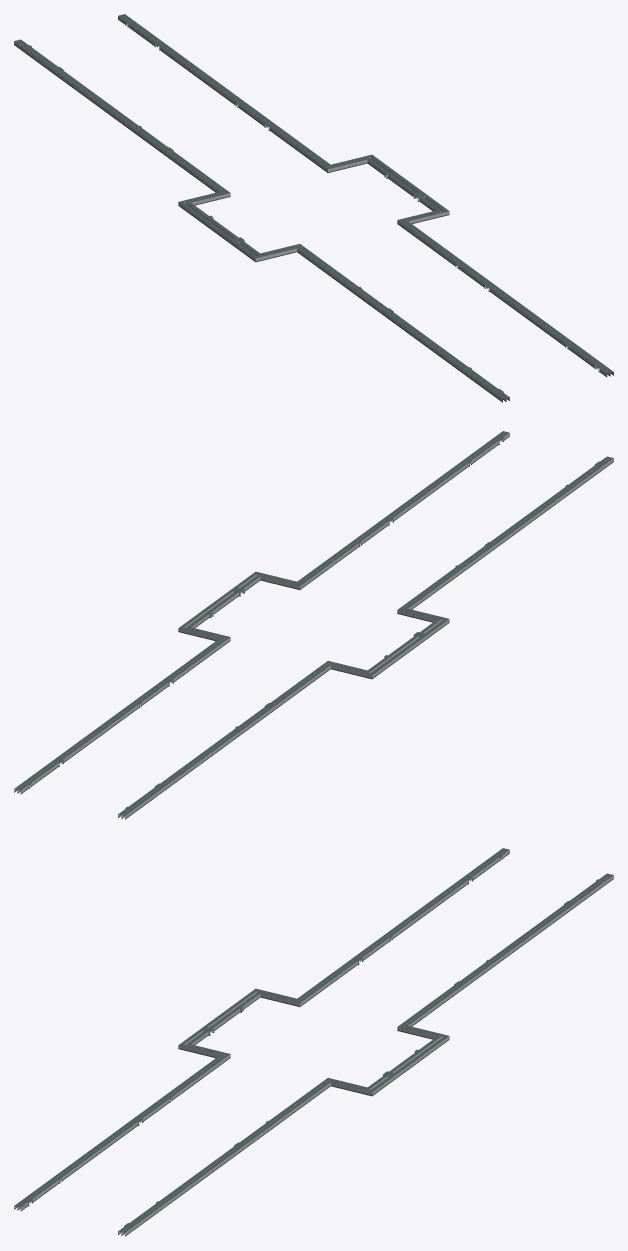
File: AST-MED-G3-002.glb
3 renders of one model, top to bottom at view 1: azimuth 30°, elevation 25°; view 2: azimuth 150°, elevation 25°; view 3: azimuth 330°, elevation 25°, orthographic.
Size of the model in its own units: 220 by 4.34 by 960.
4 materials, 4 textured.
